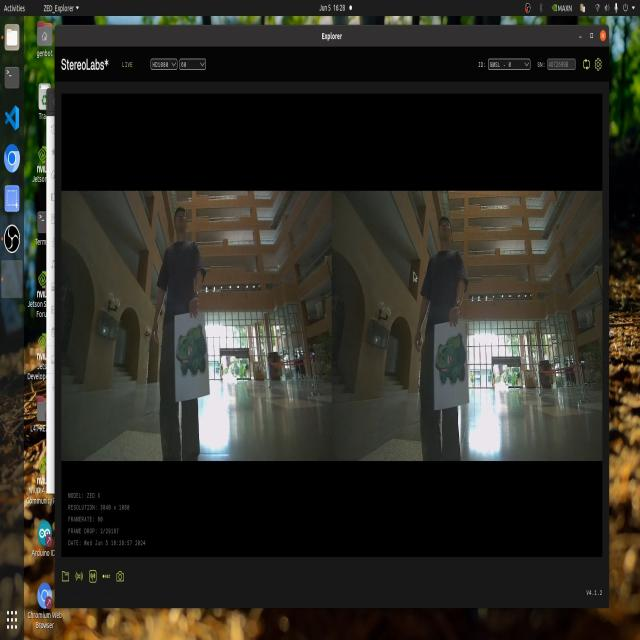green: (428, 328, 472, 397), (171, 316, 213, 373)
